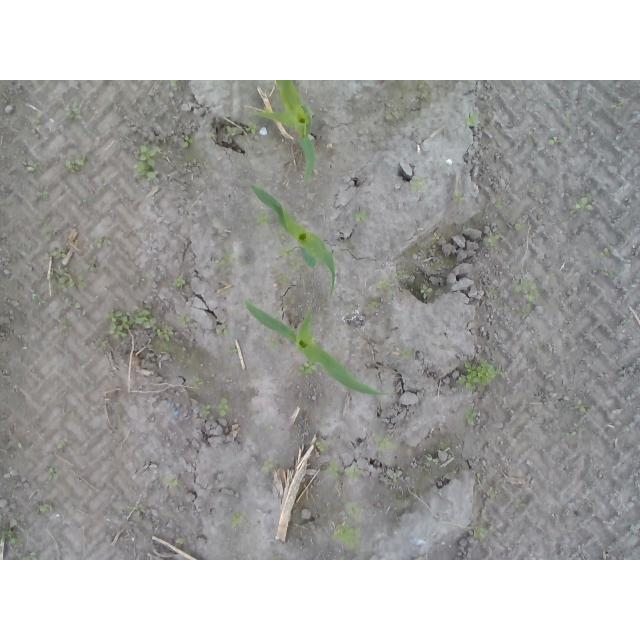Maize: (244, 294, 392, 398), (248, 180, 337, 296), (246, 81, 318, 188)
Weeds: (103, 307, 158, 337), (456, 362, 504, 391), (513, 276, 539, 320), (133, 143, 162, 182), (330, 521, 363, 551), (325, 459, 359, 482), (62, 151, 88, 173), (343, 499, 365, 522), (53, 264, 74, 288), (296, 360, 317, 378), (157, 325, 176, 343), (576, 190, 593, 210), (374, 435, 397, 449), (63, 104, 81, 121), (463, 406, 478, 426), (484, 232, 501, 249), (0, 527, 16, 545), (464, 110, 480, 128), (254, 211, 273, 226), (411, 175, 426, 194), (217, 399, 231, 418), (473, 526, 487, 544), (365, 299, 384, 312), (223, 248, 238, 264), (228, 510, 241, 528), (279, 240, 293, 256), (160, 476, 177, 489), (351, 210, 369, 222), (96, 337, 111, 351), (419, 285, 433, 300), (314, 438, 326, 455), (607, 100, 625, 111), (178, 314, 193, 327), (50, 246, 66, 258), (288, 258, 304, 270), (93, 238, 111, 248), (199, 403, 211, 418), (226, 125, 241, 137), (19, 552, 41, 560), (246, 121, 258, 135), (380, 279, 395, 290), (32, 297, 50, 306), (25, 162, 37, 175), (175, 276, 187, 289), (134, 503, 145, 517), (77, 275, 88, 289), (263, 457, 273, 472), (168, 80, 176, 98), (400, 348, 412, 360), (182, 136, 193, 149), (278, 272, 289, 285), (495, 196, 506, 209), (48, 468, 58, 481), (190, 378, 206, 386), (394, 271, 410, 279), (513, 500, 527, 509), (61, 318, 72, 329), (487, 487, 498, 498), (454, 191, 465, 202), (515, 221, 527, 231), (37, 192, 50, 201), (440, 440, 449, 452), (548, 136, 561, 144), (228, 344, 237, 354), (600, 247, 609, 257), (71, 302, 82, 310), (271, 339, 279, 350), (40, 504, 49, 513), (433, 232, 440, 241), (430, 459, 438, 466), (272, 554, 281, 560), (311, 336, 317, 344), (206, 133, 214, 139), (223, 328, 229, 336)
